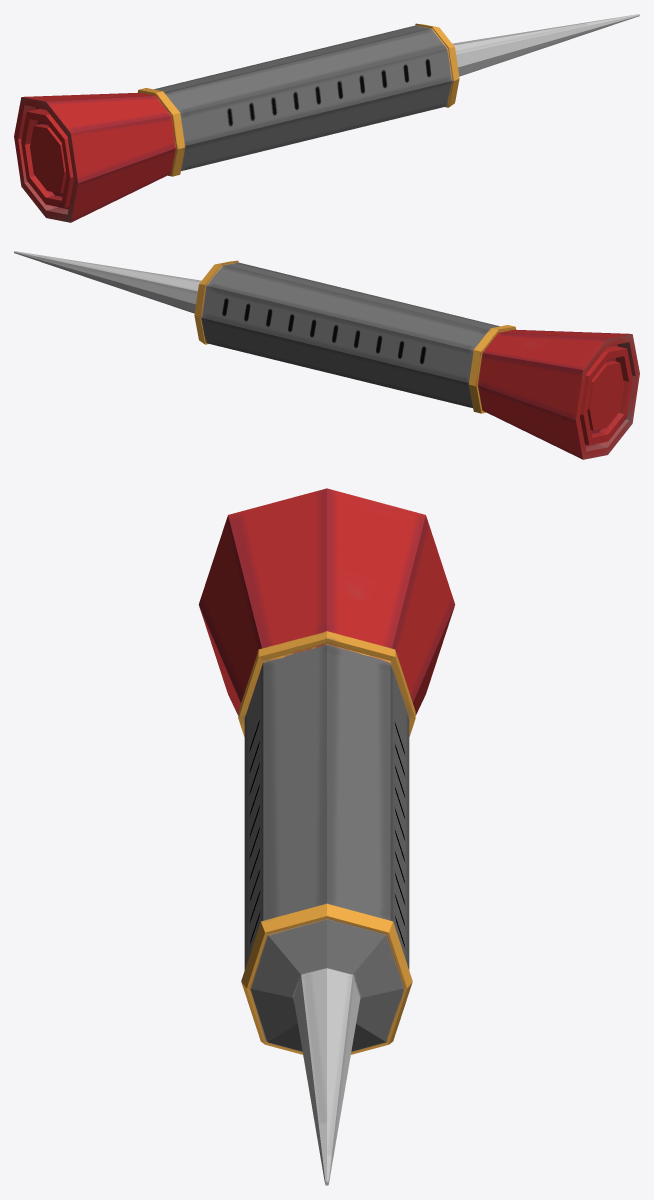
Rendered from dart 1.glb.
3 renders of one model, top to bottom at view 1: azimuth 30°, elevation 25°; view 2: azimuth 150°, elevation 25°; view 3: azimuth 270°, elevation 25°, orthographic. The views are drawn at different scales.
Visible parts, largest first — view 1: dart; view 2: dart; view 3: dart.
Part boxes in pixels (box(x1,y1,x2,y2)): dart: box(14, 14, 639, 222); dart: box(14, 251, 639, 459); dart: box(198, 488, 455, 1185).
Size of the model in its own units: 1.32 by 0.2462 by 0.2462.
Materials: 1 (1 with a texture image).
